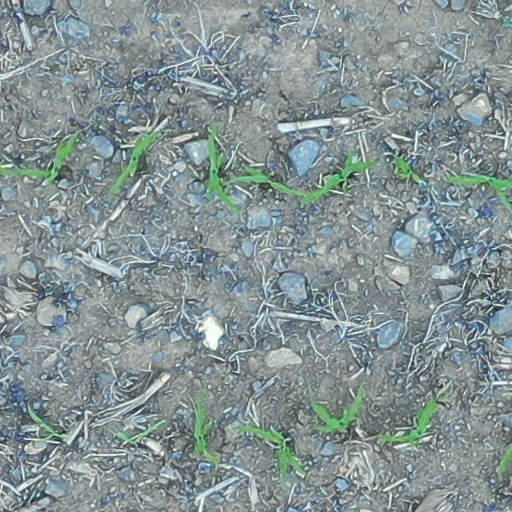planta: (298, 146, 381, 207), (3, 128, 83, 187), (230, 421, 306, 481), (106, 125, 164, 197), (223, 161, 313, 200), (377, 395, 441, 449), (204, 118, 239, 213), (308, 382, 367, 437), (190, 396, 222, 463), (389, 152, 427, 187)
